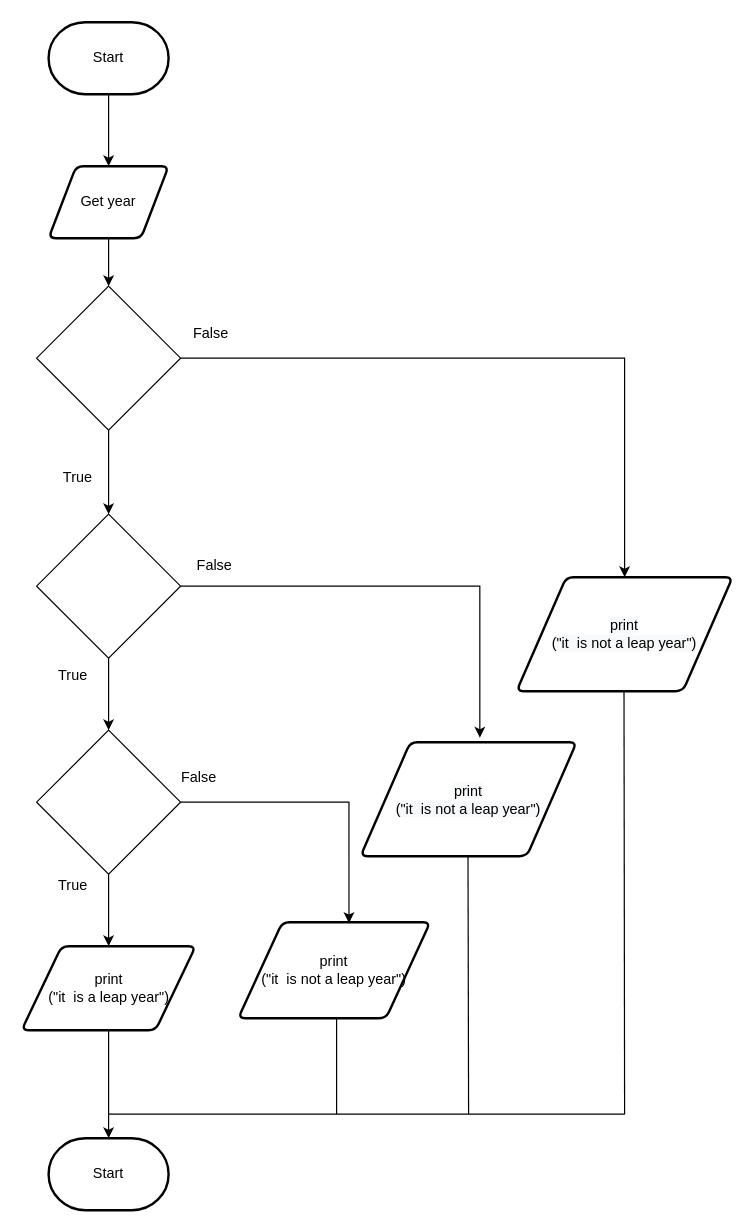
Image size: 755x1231. Some labels were removed from this diagram. The centre of each missing label's shape, as x and y in pixels:
"If year is divisible by 100" belongs at (108,585).
"If year is divisible by 4" belongs at (108,357).
"If year is divisible by 400" belongs at (108,801).
